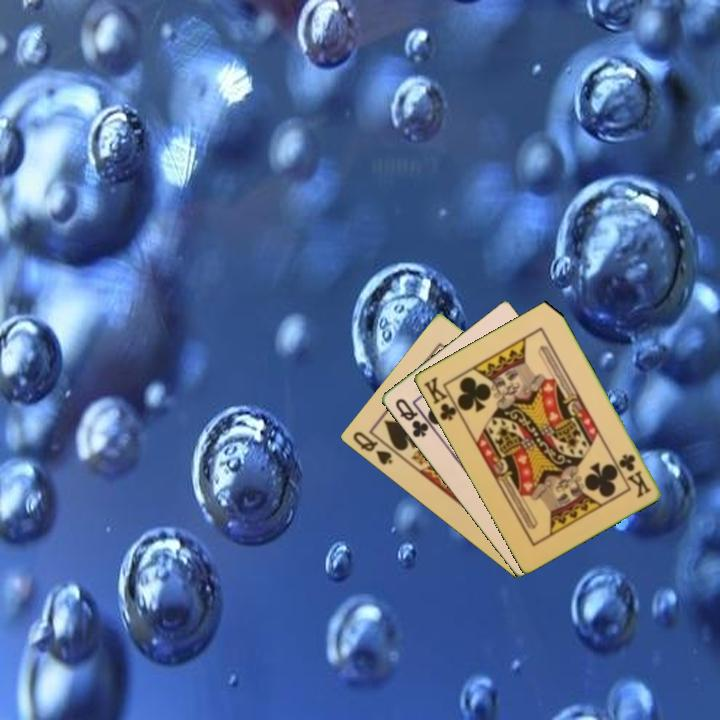Kc: (420, 373, 464, 424), (615, 450, 654, 500)
Qc: (391, 395, 431, 441)
Qs: (349, 428, 395, 468)
